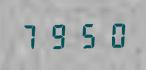five: (72, 20, 98, 49)
nine: (45, 20, 71, 50)
seven: (18, 20, 44, 50)
zero: (99, 19, 125, 49)
